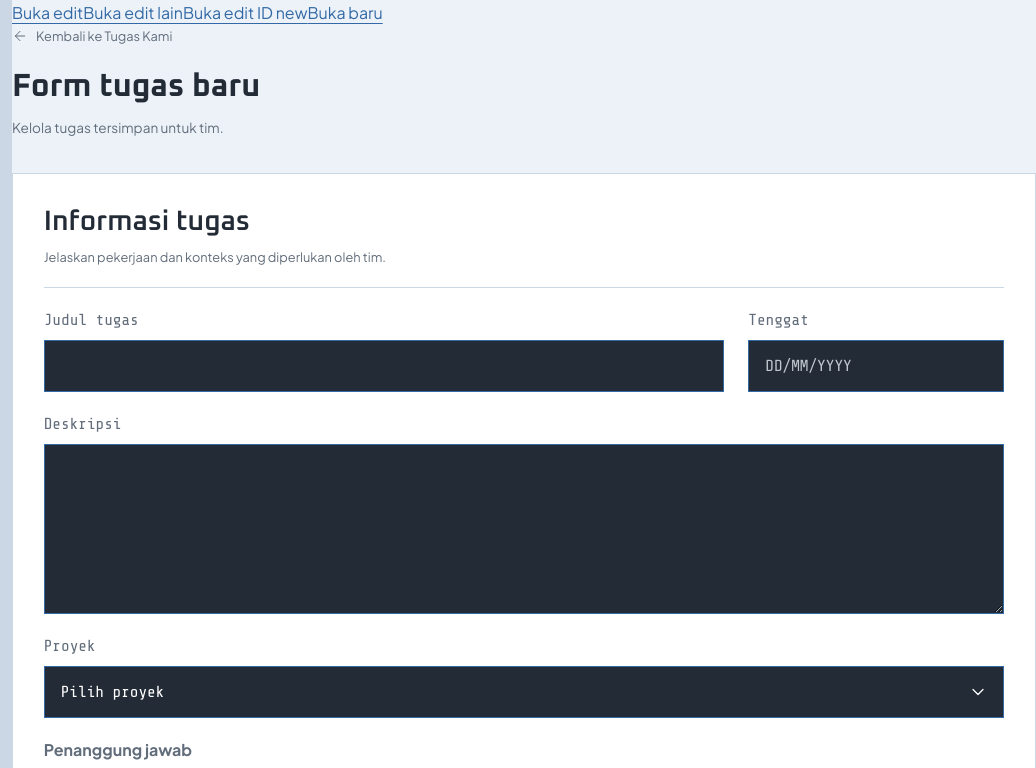
Test: memuat tugas tersimpan saat route edit berubah dan mereset form baru
Type "Input lokal" into the field labelled "Judul tugas".
click(384, 366); type("Input lokal")  # box left=44, top=340, right=724, bottom=392
Type "Arahan lokal" into the text box labelled "Deskripsi".
click(524, 529); type("Arahan lokal")  # box left=44, top=444, right=1004, bottom=614
(page scrolled)
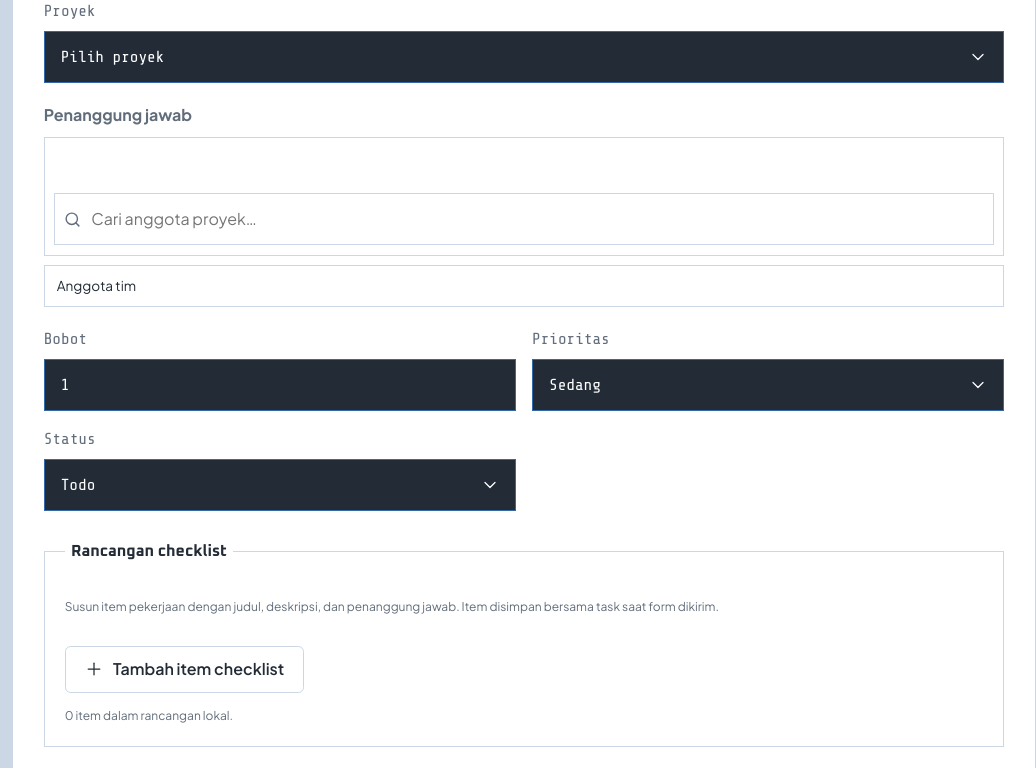
Type "2" into the number field labelled "Bobot".
click(280, 385); type("2")  # box left=44, top=359, right=516, bottom=411
Click the button "Tambah item checklist".
click(184, 669)  # box left=65, top=646, right=304, bottom=693
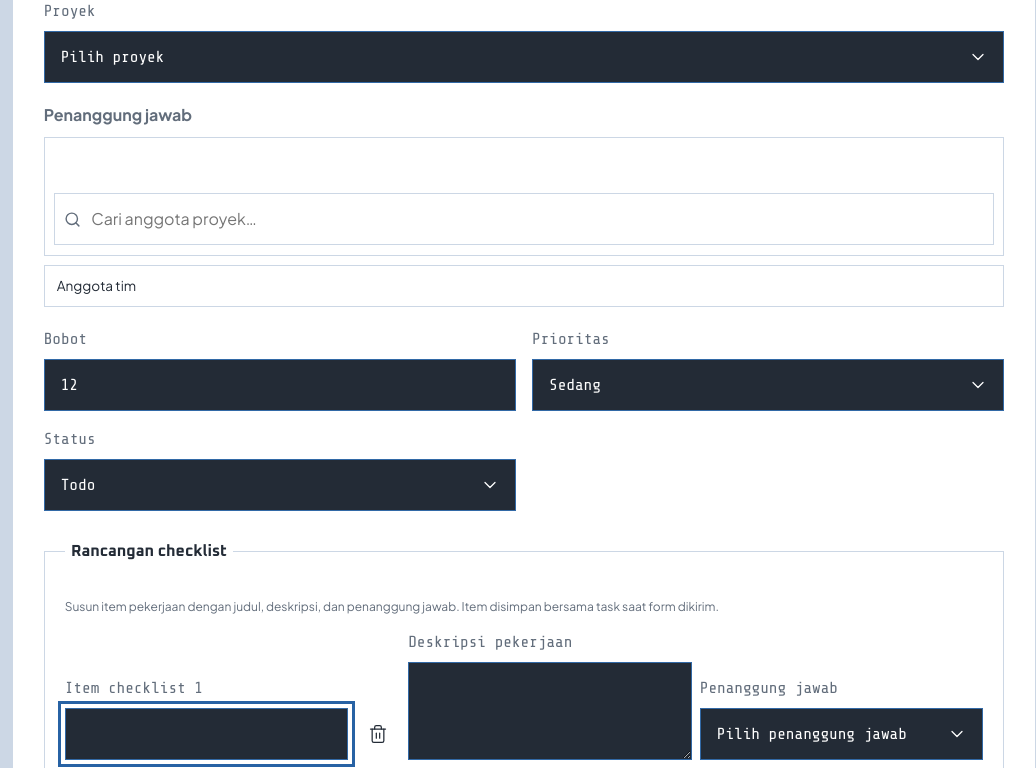
Type "Item lokal" into the field labelled "Item checklist 1".
click(206, 734); type("Item lokal")  # box left=65, top=708, right=348, bottom=760
(page scrolled)
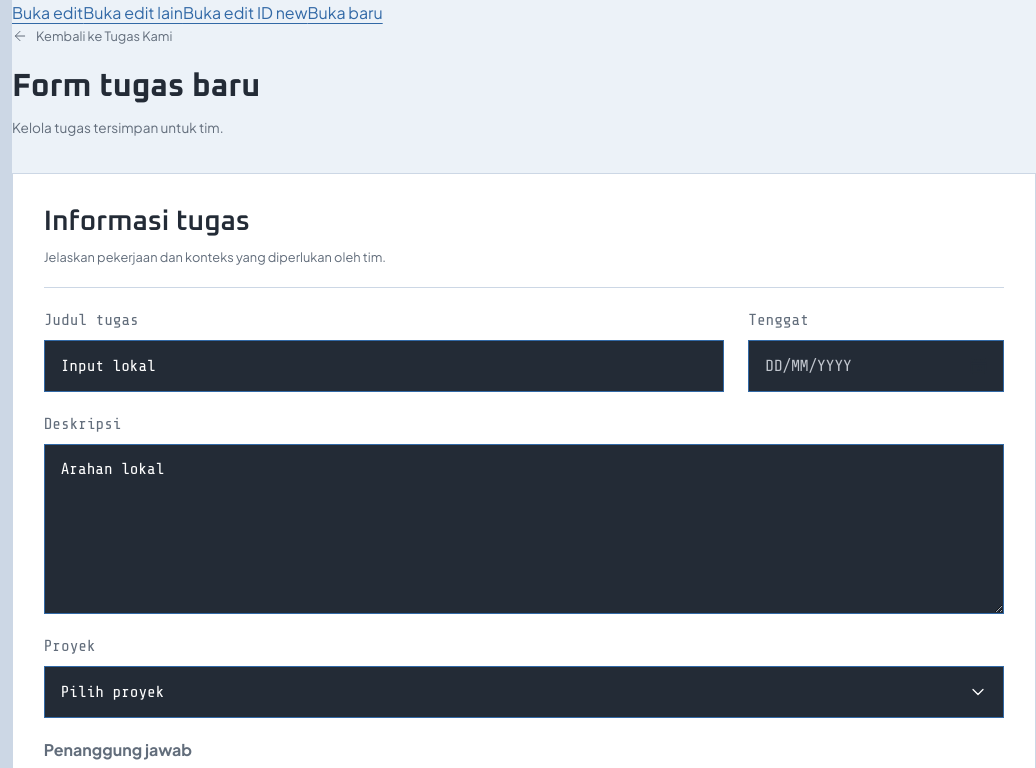
Click the link "Buka edit".
click(48, 12)  # box left=12, top=2, right=83, bottom=23
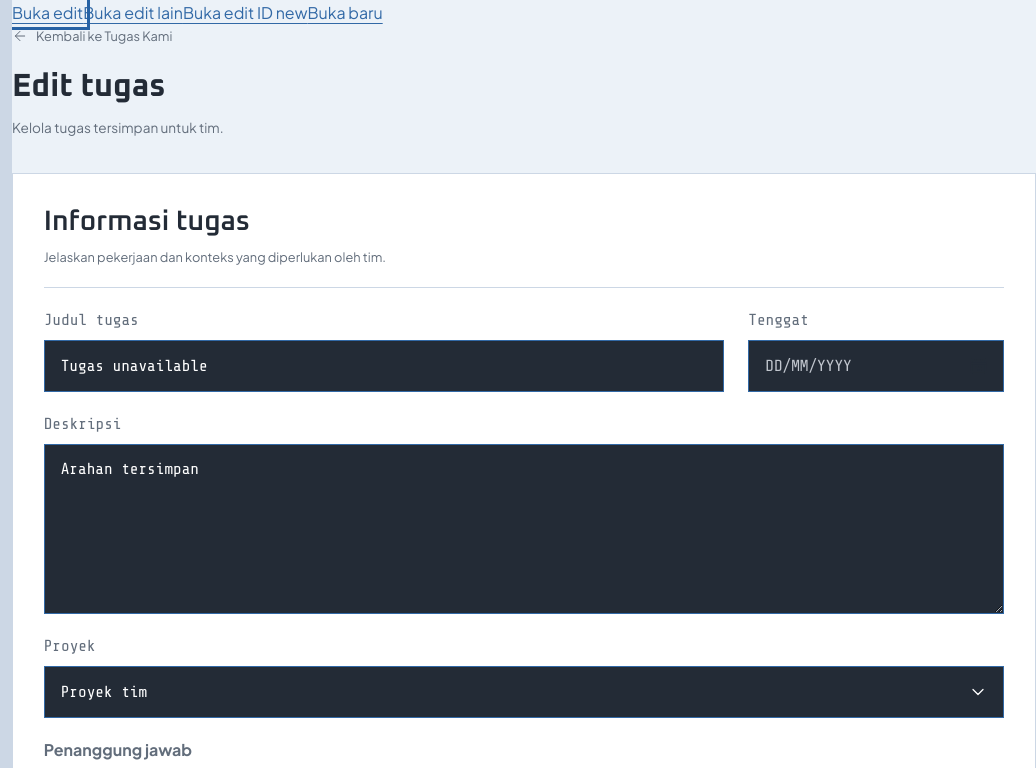
expect the field labelled "Judul tugas" holds "Tugas unavailable": met, box left=44, top=340, right=724, bottom=392
expect the field labelled "Judul tugas" is enabled: met, box left=44, top=340, right=724, bottom=392
expect the text box labelled "Deskripsi" holds "Arahan tersimpan": met, box left=44, top=444, right=1004, bottom=614
Click the link "Buka edit lain".
click(133, 12)  # box left=83, top=2, right=183, bottom=23
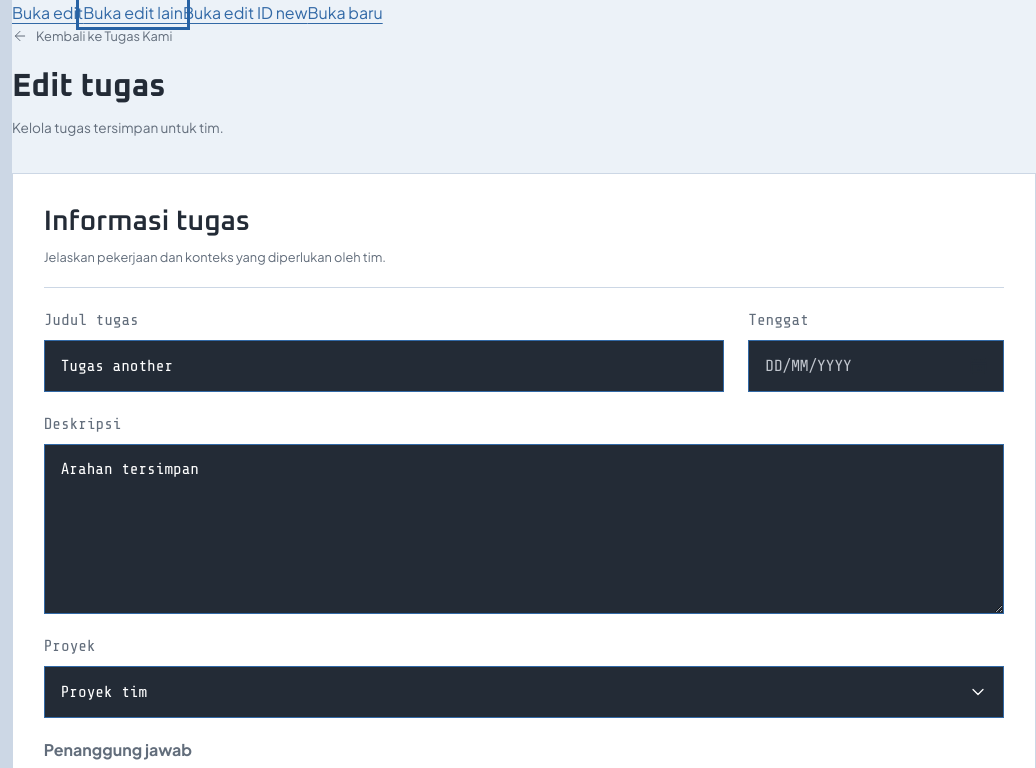
expect the field labelled "Judul tugas" holds "Tugas another": met, box left=44, top=340, right=724, bottom=392
expect the field labelled "Judul tugas" is enabled: met, box left=44, top=340, right=724, bottom=392
Click the link "Buka baru".
click(345, 12)  # box left=307, top=2, right=383, bottom=23
(page scrolled)
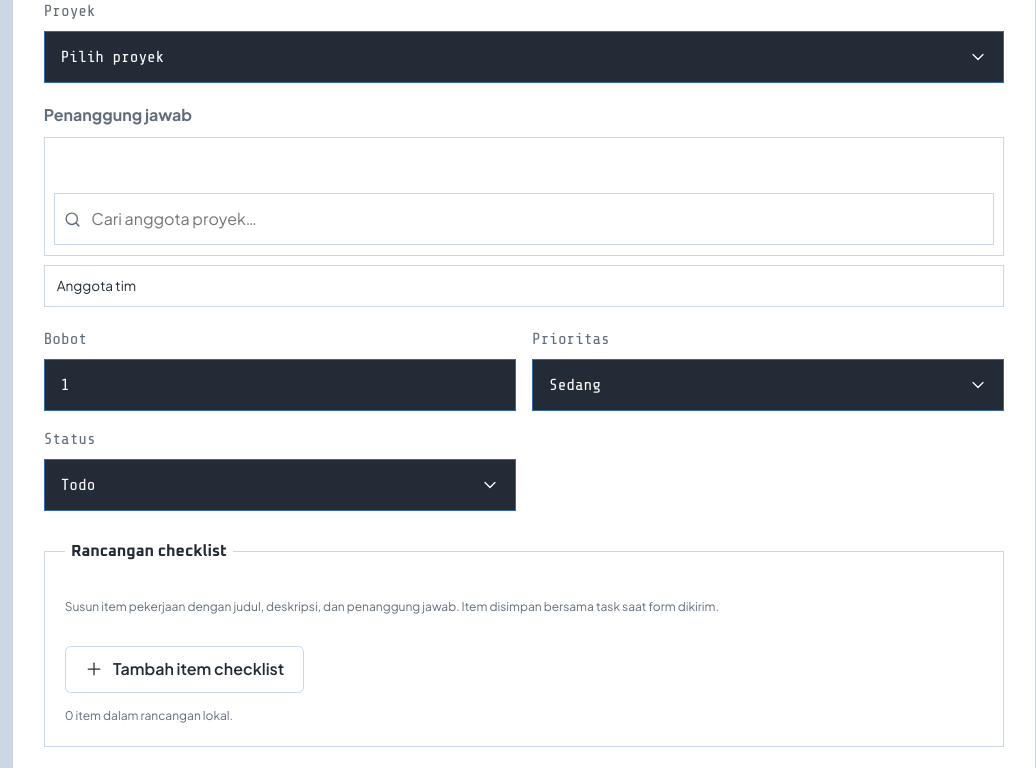
expect the field labelled "Item checklist 1" is not shown: met
expect the number field labelled "Bobot" holds "1": met, box left=44, top=359, right=516, bottom=411
